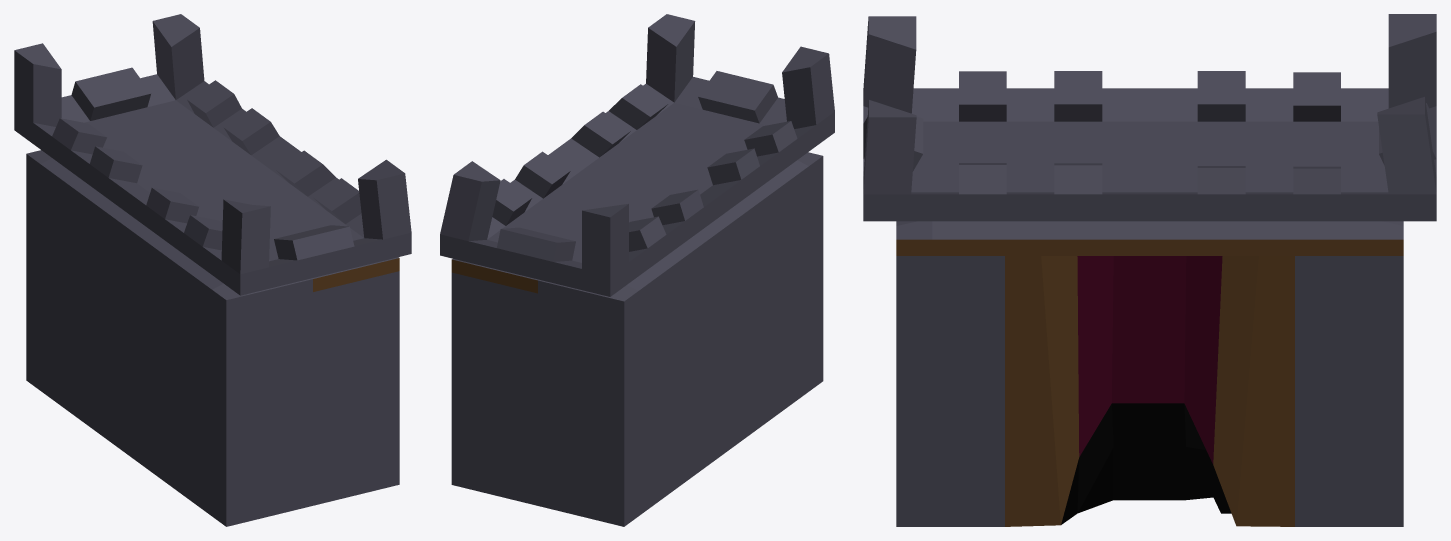
The model's file is torre.blend.fbx.
3 renders of one model, left to right at view 1: azimuth 30°, elevation 25°; view 2: azimuth 150°, elevation 25°; view 3: azimuth 270°, elevation 25°, orthographic. The views are drawn at different scales.
Parts seen in each view (by area): view 1: Cube.002; view 2: Cube.002; view 3: Cube.002.
Boxes of the visible parts, x1,y1,x2,y2 form: Cube.002: [14, 14, 411, 526]; Cube.002: [440, 14, 834, 526]; Cube.002: [863, 14, 1436, 526].
Size of the model in its own units: 4016 by 7068 by 9033.
1 material, 1 textured.
